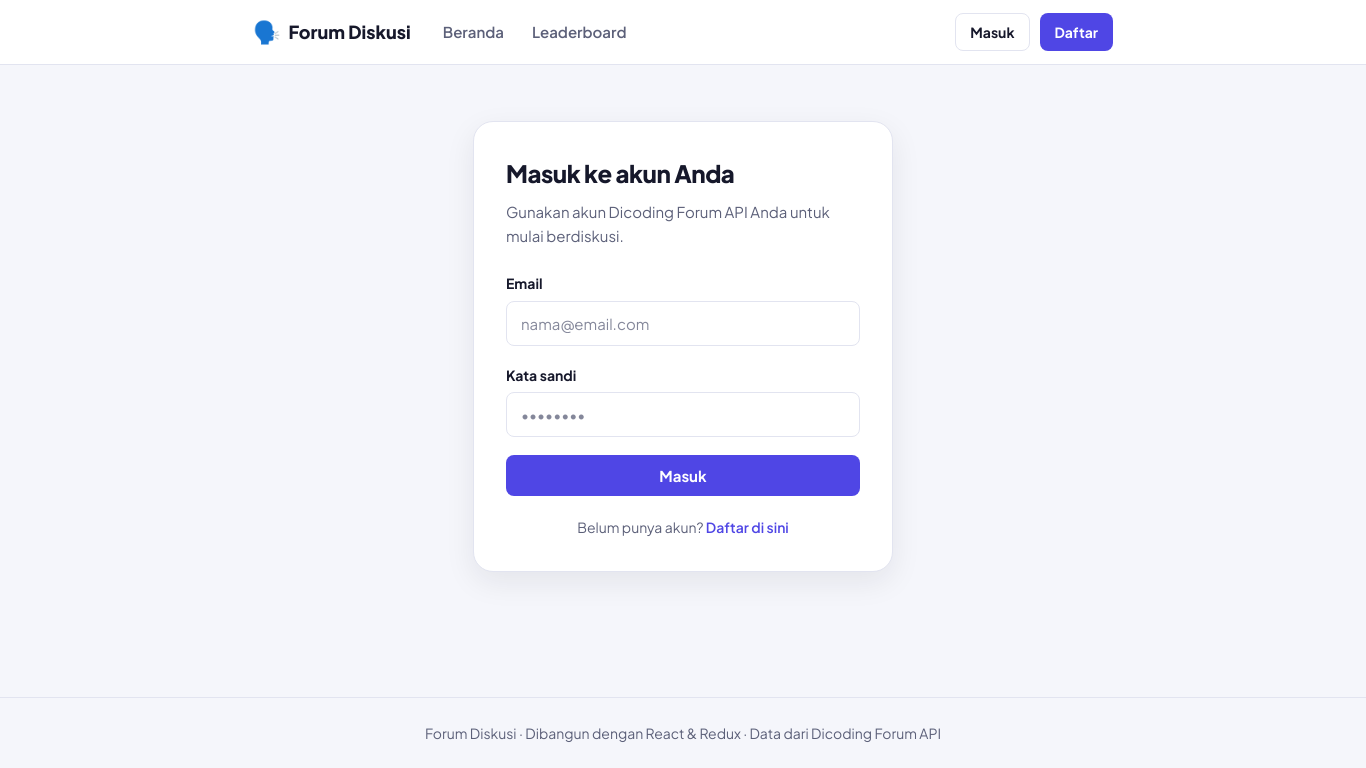
Alur Login › harus menampilkan pesan galat ketika kata sandi kurang dari 6 karakter
Type "john@example.com" into the field with id "login-email" at {"x": 683, "y": 324}, box [506,301,860,346]
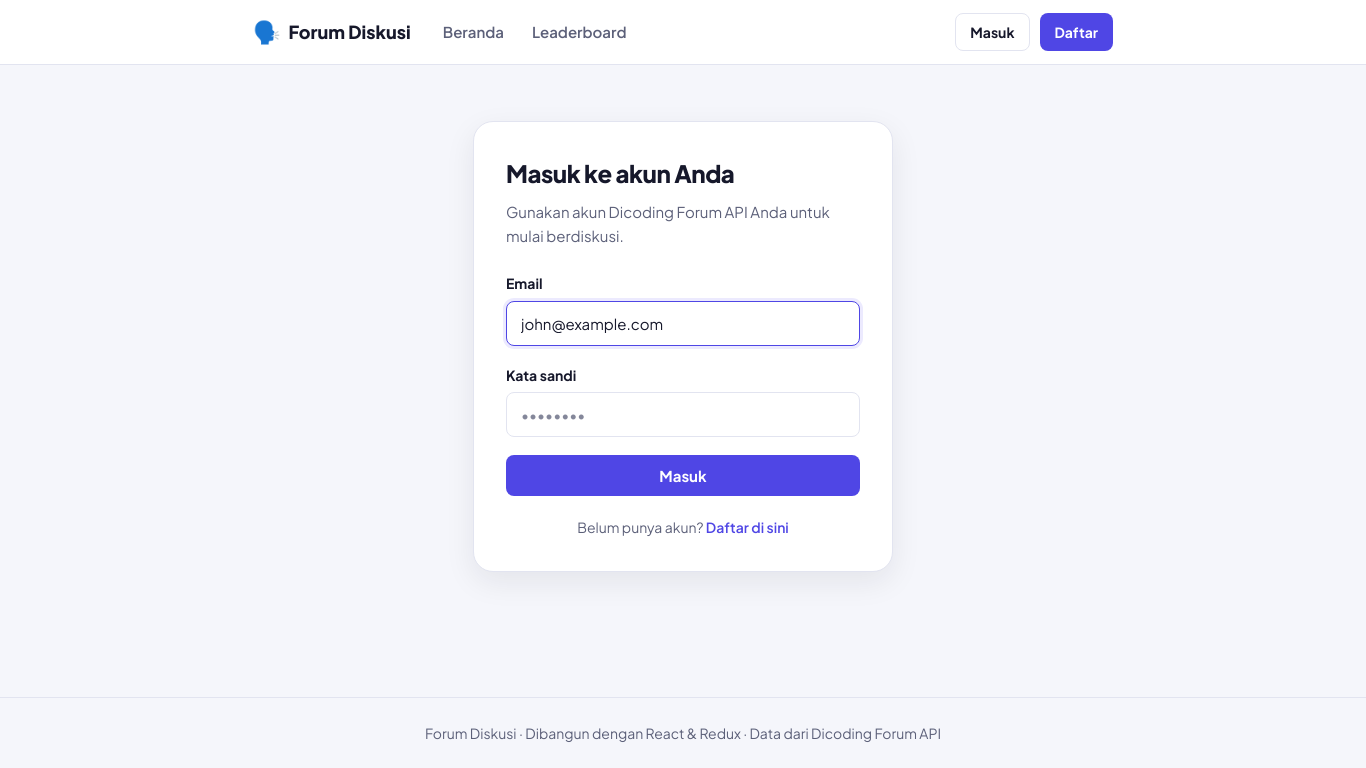
Type "123" into the password field with id "login-password" at {"x": 683, "y": 415}, box [506,392,860,437]
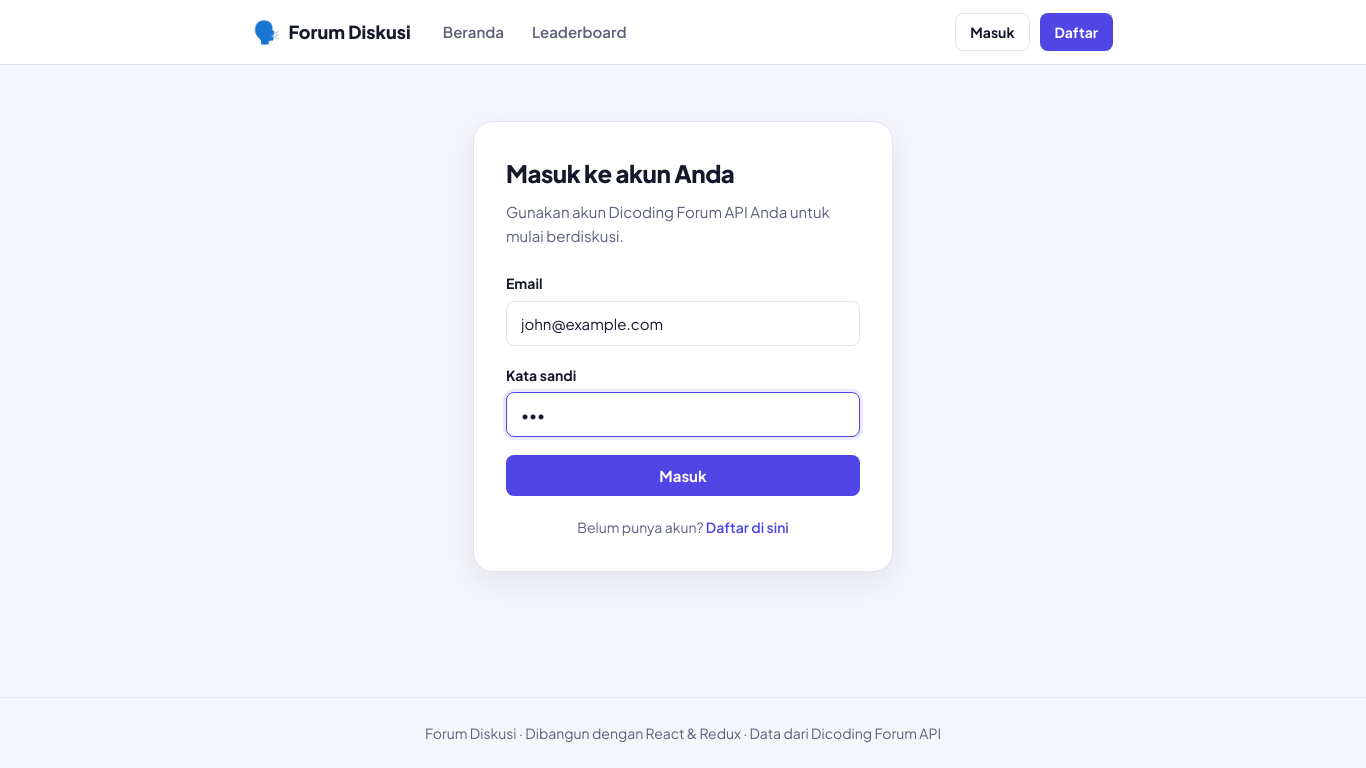
Click the submit button at {"x": 683, "y": 476}, box [506,455,860,496]
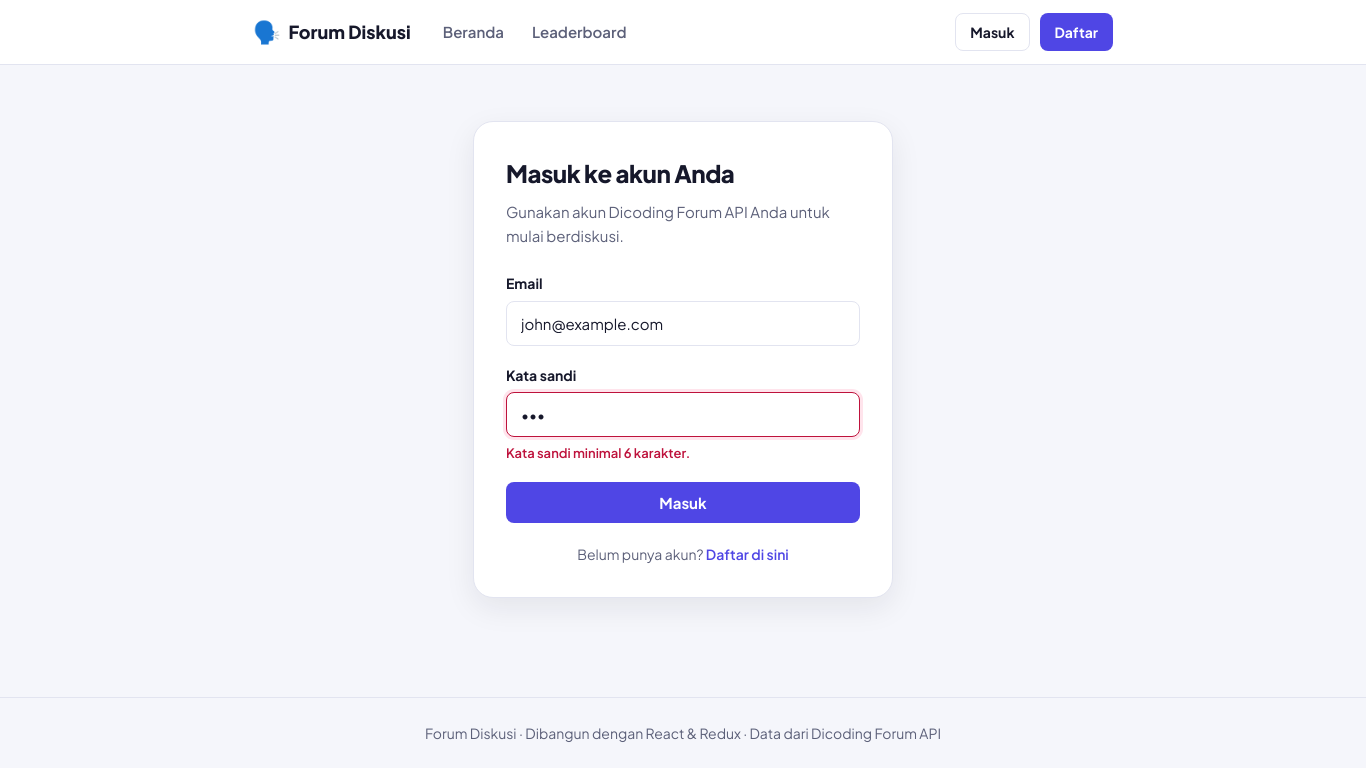
Now the text "Kata sandi minimal 6 karakter." is shown, box [506,445,690,461]
